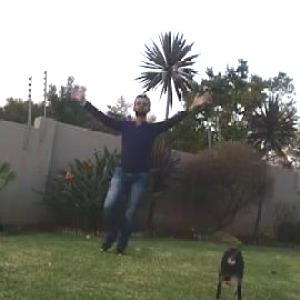takeoff: (80, 98, 196, 239)
